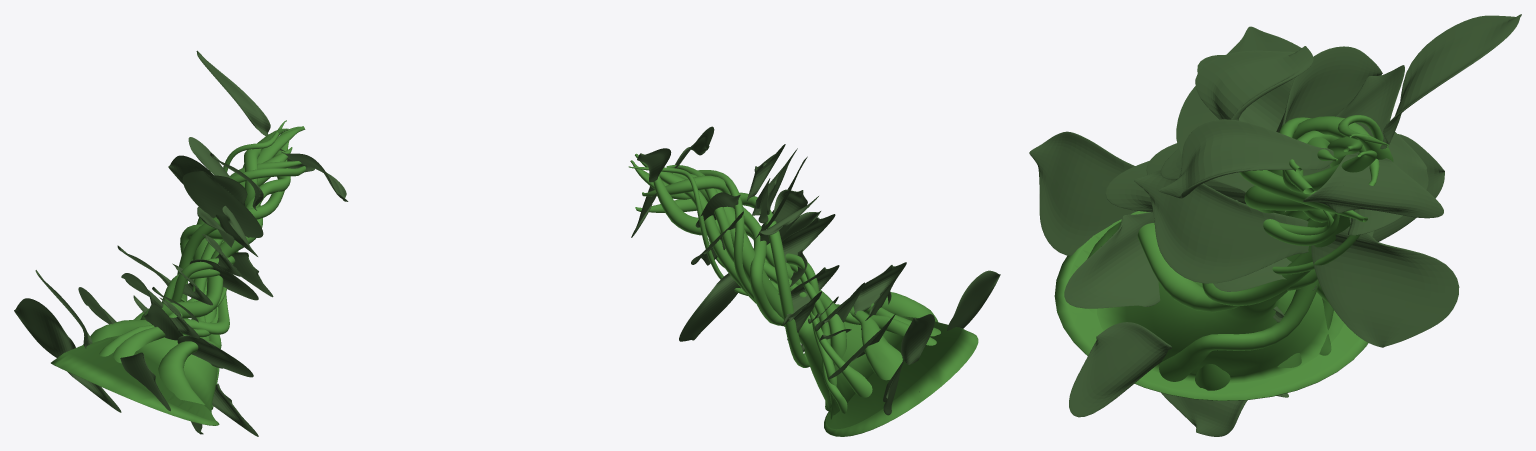
Rendered from BeansalkBridge#05.fbx.
3 views of the same model, side by side, from view 1: azimuth 30°, elevation 25°; view 2: azimuth 150°, elevation 25°; view 3: azimuth 270°, elevation 25° (orthographic). The views are drawn at different scales.
Parts seen in each view (by area): view 1: Stalk12.064, Stalk12.060, Stalk12.065|Plane.009|Dupli|2, Stalk12.055, Stalk12.064|Plane.009|Dupli|4, Stalk12.059, Stalk12.065, Stalk12.065|Plane.009|Dupli|3, Stalk12.063, Stalk12.064|Plane.009|Dupli|1, Stalk12.062, Stalk12.064|Plane.009|Dupli|7 (+13 smaller); view 2: Stalk12.064, Stalk12.055, Stalk12.060, Stalk12.063, Stalk12.065, Stalk12.056, Stalk12.055|Plane.009|Dupli|5, Stalk12.059, Stalk12.061, Stalk12.064|Plane.009|Dupli|7, Stalk12.062, Stalk12.055|Plane.009|Dupli|3 (+12 smaller); view 3: Stalk12.064, Stalk12.055|Plane.009|Dupli|5, Stalk12.055|Plane.009|Dupli|6, Stalk12.064|Plane.009|Dupli|7, Stalk12.064|Plane.009|Dupli|5, Stalk12.064|Plane.009|Dupli|1, Stalk12.063|Plane.009|Dupli|2, Stalk12.065|Plane.009|Dupli|3, Stalk12.063|Plane.009|Dupli|, Stalk12.063, Stalk12.065|Plane.009|Dupli|7, Stalk12.063|Plane.009|Dupli|5 (+18 smaller).
Part boxes in pixels (bbox=[...]): Stalk12.064: bbox=[51, 147, 292, 425]; Stalk12.060: bbox=[158, 126, 300, 406]; Stalk12.065|Plane.009|Dupli|2: bbox=[182, 171, 263, 237]; Stalk12.055: bbox=[83, 126, 305, 344]; Stalk12.064|Plane.009|Dupli|4: bbox=[14, 298, 75, 357]; Stalk12.059: bbox=[113, 166, 305, 363]; Stalk12.065: bbox=[140, 128, 288, 319]; Stalk12.065|Plane.009|Dupli|3: bbox=[196, 50, 270, 135]; Stalk12.063: bbox=[177, 190, 284, 409]; Stalk12.064|Plane.009|Dupli|1: bbox=[177, 335, 253, 377]; Stalk12.062: bbox=[191, 148, 261, 339]; Stalk12.064|Plane.009|Dupli|7: bbox=[120, 352, 170, 411]; Stalk12.064: bbox=[672, 173, 978, 436]; Stalk12.055: bbox=[635, 153, 902, 380]; Stalk12.060: bbox=[630, 160, 937, 325]; Stalk12.063: bbox=[635, 192, 809, 367]; Stalk12.065: bbox=[653, 175, 846, 411]; Stalk12.056: bbox=[628, 166, 872, 397]; Stalk12.055|Plane.009|Dupli|5: bbox=[679, 273, 740, 341]; Stalk12.059: bbox=[697, 170, 940, 336]; Stalk12.061: bbox=[666, 165, 936, 345]; Stalk12.064|Plane.009|Dupli|7: bbox=[947, 270, 1000, 330]; Stalk12.062: bbox=[642, 175, 806, 297]; Stalk12.055|Plane.009|Dupli|3: bbox=[901, 314, 934, 364]; Stalk12.064: bbox=[1054, 137, 1368, 400]; Stalk12.055|Plane.009|Dupli|5: bbox=[1311, 226, 1459, 347]; Stalk12.055|Plane.009|Dupli|6: bbox=[1134, 170, 1308, 283]; Stalk12.064|Plane.009|Dupli|7: bbox=[1029, 131, 1137, 255]; Stalk12.064|Plane.009|Dupli|5: bbox=[1158, 119, 1333, 198]; Stalk12.064|Plane.009|Dupli|1: bbox=[1064, 212, 1160, 308]; Stalk12.063|Plane.009|Dupli|2: bbox=[1069, 322, 1171, 417]; Stalk12.065|Plane.009|Dupli|3: bbox=[1380, 14, 1521, 149]; Stalk12.063|Plane.009|Dupli|: bbox=[1195, 46, 1313, 120]; Stalk12.063: bbox=[1159, 170, 1367, 381]; Stalk12.065|Plane.009|Dupli|7: bbox=[1303, 154, 1443, 218]; Stalk12.063|Plane.009|Dupli|5: bbox=[1276, 46, 1382, 132].
Size of the model in its own units: 178 by 134 by 108.
